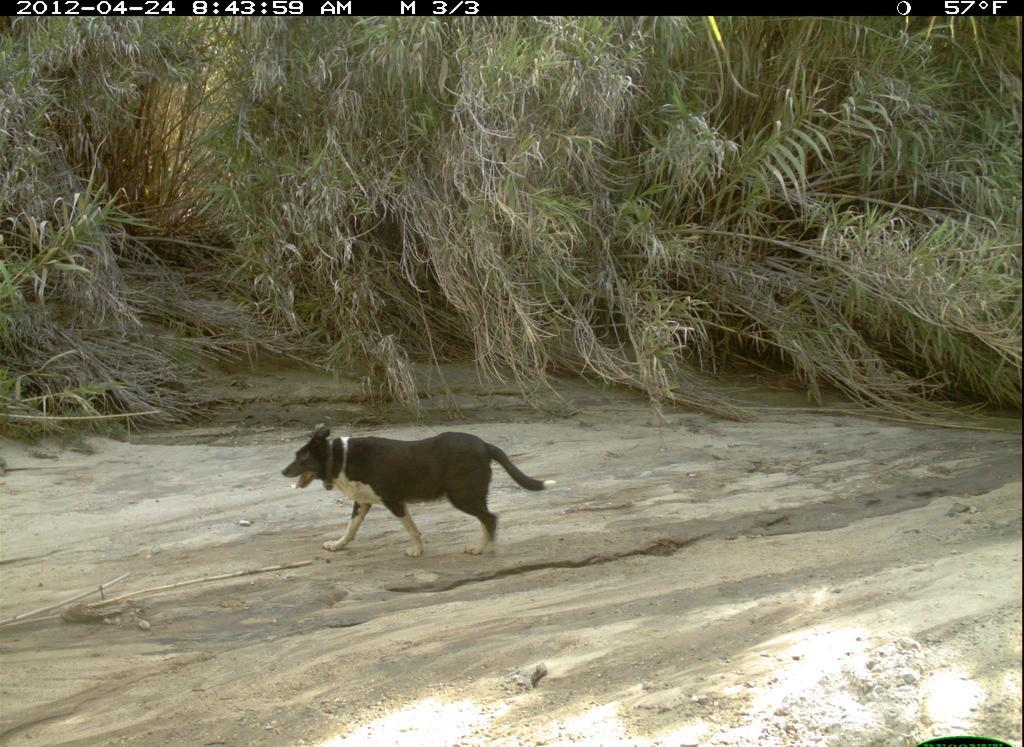dog: (280, 420, 557, 564)
